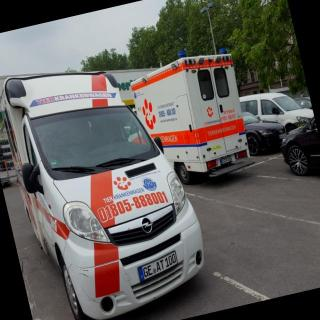Ambulance: (0, 53, 220, 320)
